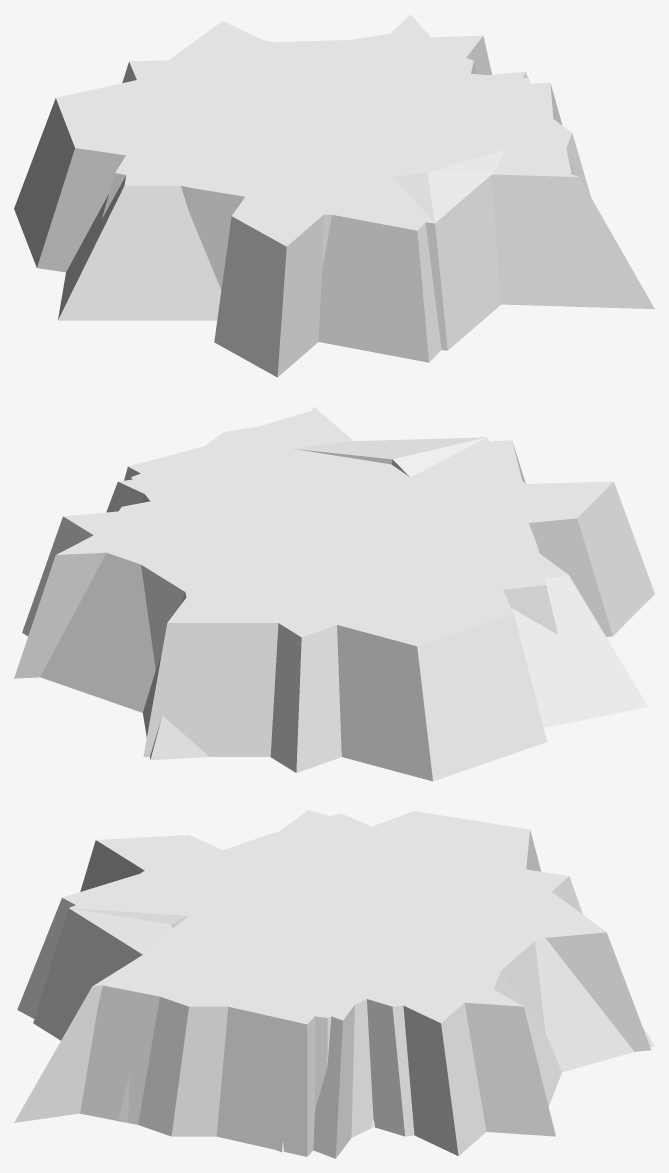
File: Ice.fbx
3 views of the same model, one above another, from view 1: azimuth 30°, elevation 25°; view 2: azimuth 150°, elevation 25°; view 3: azimuth 270°, elevation 25° (orthographic). The views are drawn at different scales.
Parts seen in each view (by area): view 1: Ice 07, Ice 03, Ice 05, Ice 06, Ice 02, Ice 01, Ice 04; view 2: Ice 07, Ice 03, Ice 06, Ice 05, Ice 02, Ice 01, Ice 04; view 3: Ice 07, Ice 03, Ice 05, Ice 06, Ice 02, Ice 01, Ice 04.
Part boxes in pixels (left/top/right/bottom): Ice 07: left=101, top=14, right=590, bottom=377; Ice 03: left=111, top=21, right=565, bottom=362; Ice 05: left=58, top=32, right=654, bottom=320; Ice 06: left=14, top=62, right=529, bottom=272; Ice 02: left=145, top=62, right=492, bottom=190; Ice 01: left=162, top=77, right=458, bottom=178; Ice 04: left=220, top=57, right=399, bottom=164; Ice 07: left=14, top=411, right=654, bottom=772; Ice 03: left=22, top=424, right=528, bottom=756; Ice 06: left=106, top=453, right=547, bottom=781; Ice 05: left=40, top=407, right=647, bottom=760; Ice 02: left=175, top=456, right=500, bottom=598; Ice 01: left=210, top=470, right=459, bottom=613; Ice 04: left=158, top=497, right=477, bottom=544; Ice 07: left=33, top=813, right=582, bottom=1156; Ice 03: left=17, top=825, right=651, bottom=1155; Ice 05: left=14, top=810, right=654, bottom=1152; Ice 06: left=184, top=811, right=541, bottom=1158; Ice 02: left=181, top=836, right=507, bottom=976; Ice 01: left=195, top=864, right=509, bottom=977; Ice 04: left=215, top=876, right=447, bottom=974.
Bounding box in the file's own units: 48.92 × 10.42 × 49.51.
Materials: 1 (1 with a texture image).
